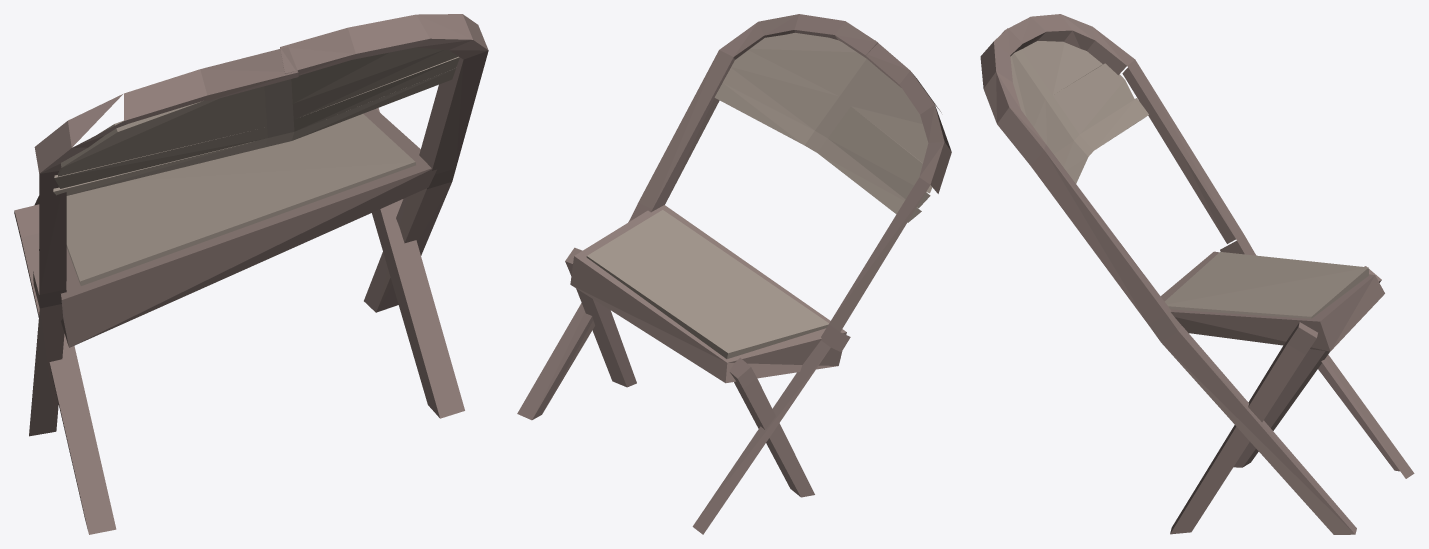
File: Wood_chair.glb
The picture shows the model from 3 angles, left to right: view 1: azimuth 30°, elevation 25°; view 2: azimuth 150°, elevation 25°; view 3: azimuth 270°, elevation 25°; orthographic projection. The views are drawn at different scales.
Visible parts, largest first — view 1: Node-Mesh_1, Node-Mesh; view 2: Node-Mesh, Node-Mesh_1; view 3: Node-Mesh_1, Node-Mesh.
Boxes of the visible parts, box(x1,y1,x2,y2) form: Node-Mesh_1: box(14, 14, 488, 534); Node-Mesh: box(53, 47, 459, 285); Node-Mesh: box(586, 33, 932, 358); Node-Mesh_1: box(517, 14, 951, 534); Node-Mesh_1: box(980, 14, 1414, 534); Node-Mesh: box(1010, 41, 1368, 318).
Size of the model in its own units: 1.03 by 1.17 by 1.
